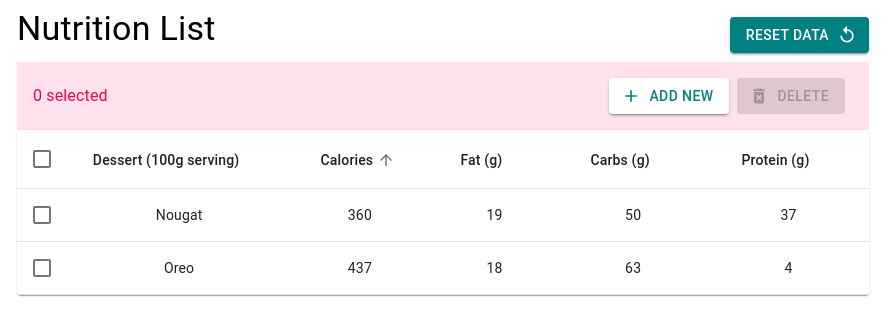
Test: Home Page › Display Elements › should display 1 table row when a row is deleted
Click the icon with test id "table-row-checkbox" next to "Nougat" at [42, 215], box [30,203,54,227]
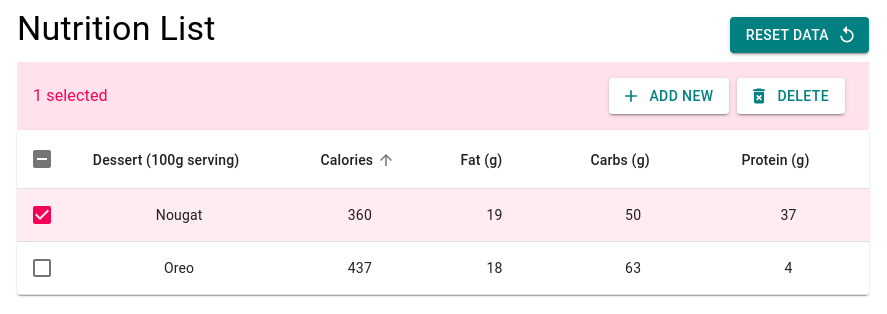
Click the button with test id "delete-button" at [791, 96], box [738,78,845,114]
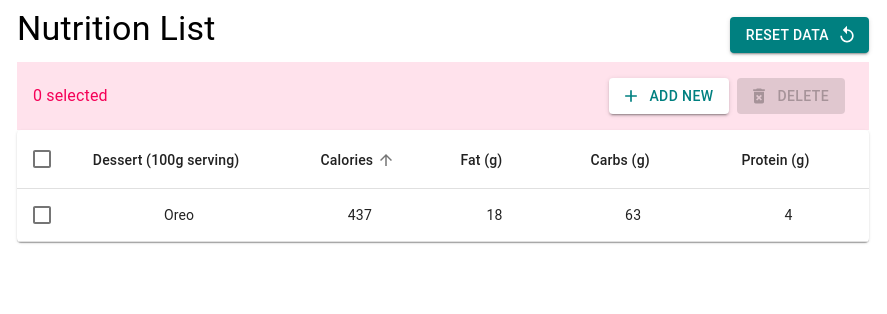
Check: the number of checkboxes with test id "table-row" is 1, box [17,188,869,241]
